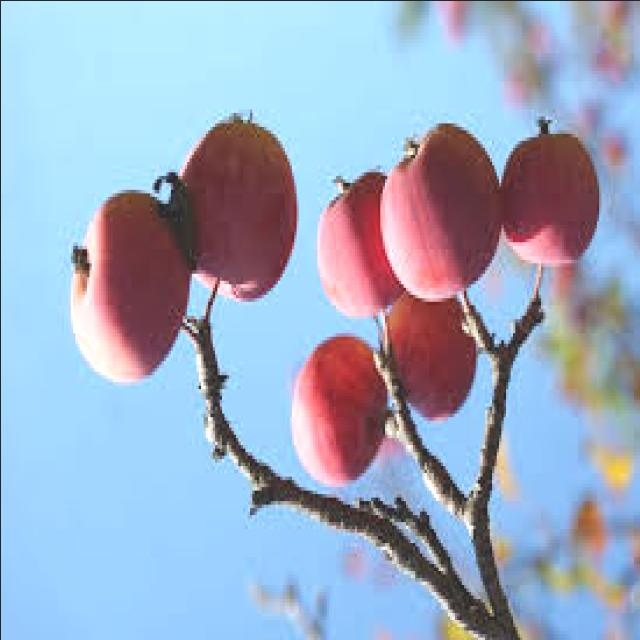agrume: (53, 145, 203, 424), (164, 96, 296, 333), (374, 108, 498, 356), (272, 308, 404, 512), (484, 97, 614, 298), (294, 171, 407, 355), (359, 293, 477, 464)
